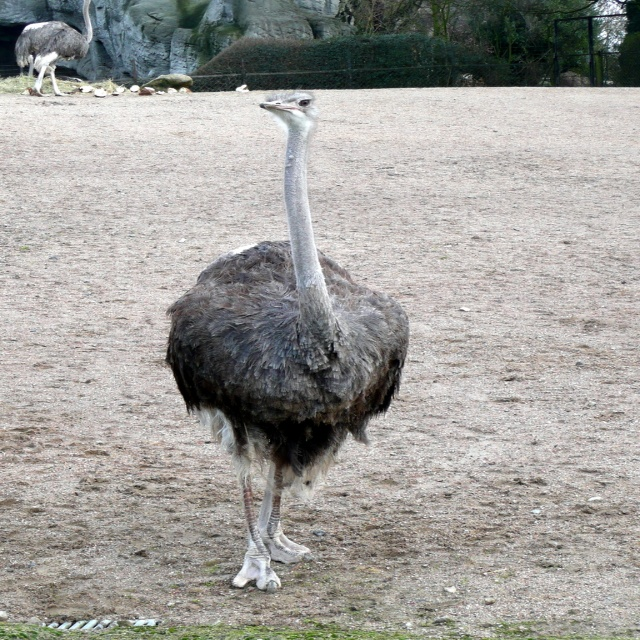Ostrich: (166, 88, 415, 592), (12, 0, 102, 96)
